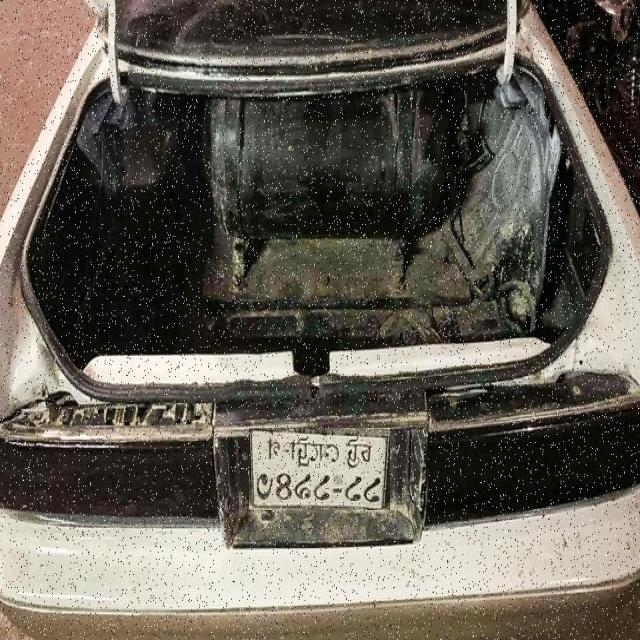numberplate: (249, 428, 390, 510)
